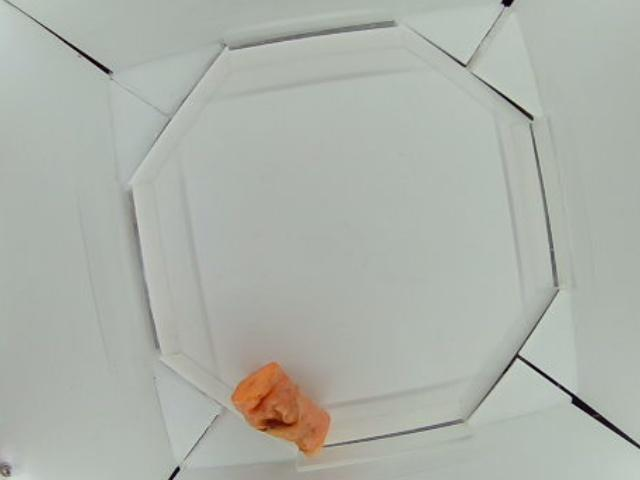Carrot: (230, 362, 329, 455)
